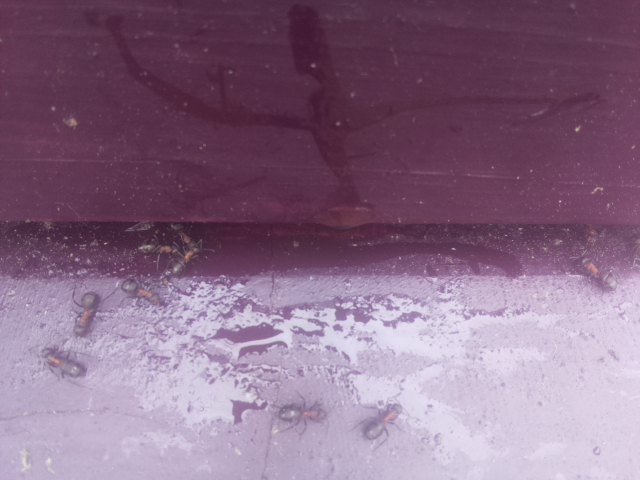ant: (358, 390, 410, 453), (115, 267, 169, 315), (34, 343, 91, 381), (157, 238, 204, 281), (66, 287, 102, 338), (575, 254, 619, 293), (273, 403, 326, 423), (137, 240, 177, 258)
